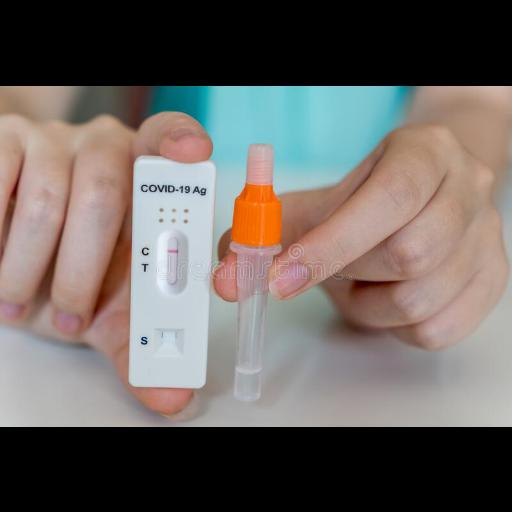Neg: (134, 162, 212, 386)
